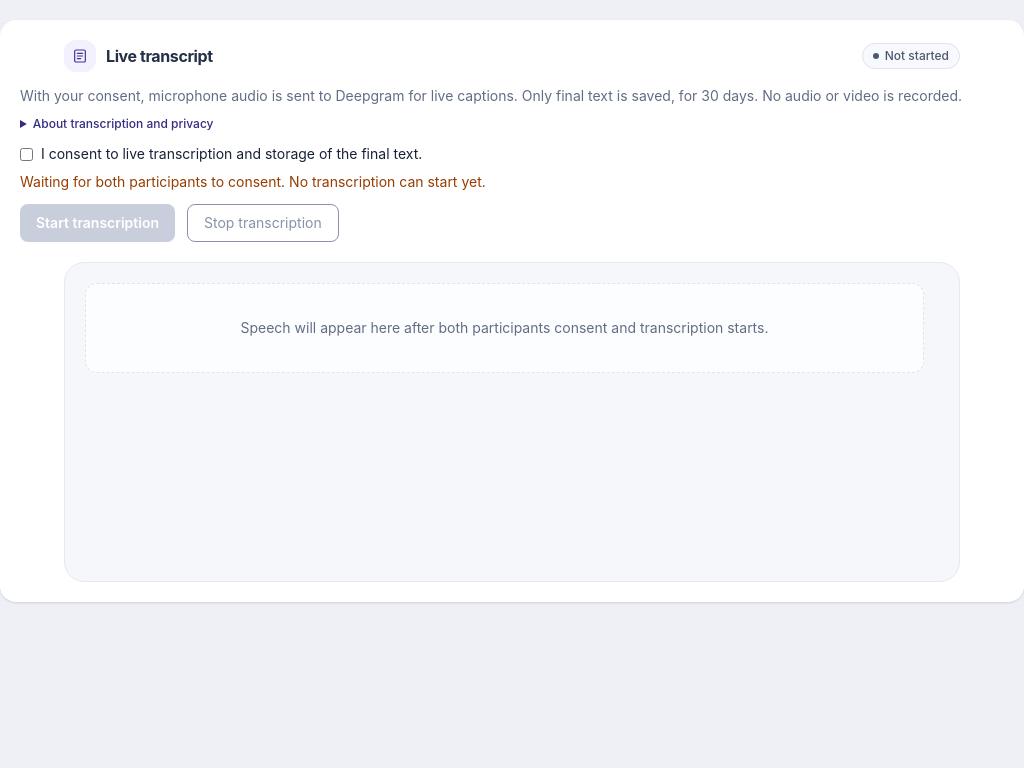
Test: transcription controls and captions › requires explicit consent before enabling start
Expected: the button "Start transcription" is disabled, [20,204,175,242]
Click the checkbox at (26, 154), box [20,148,33,161]
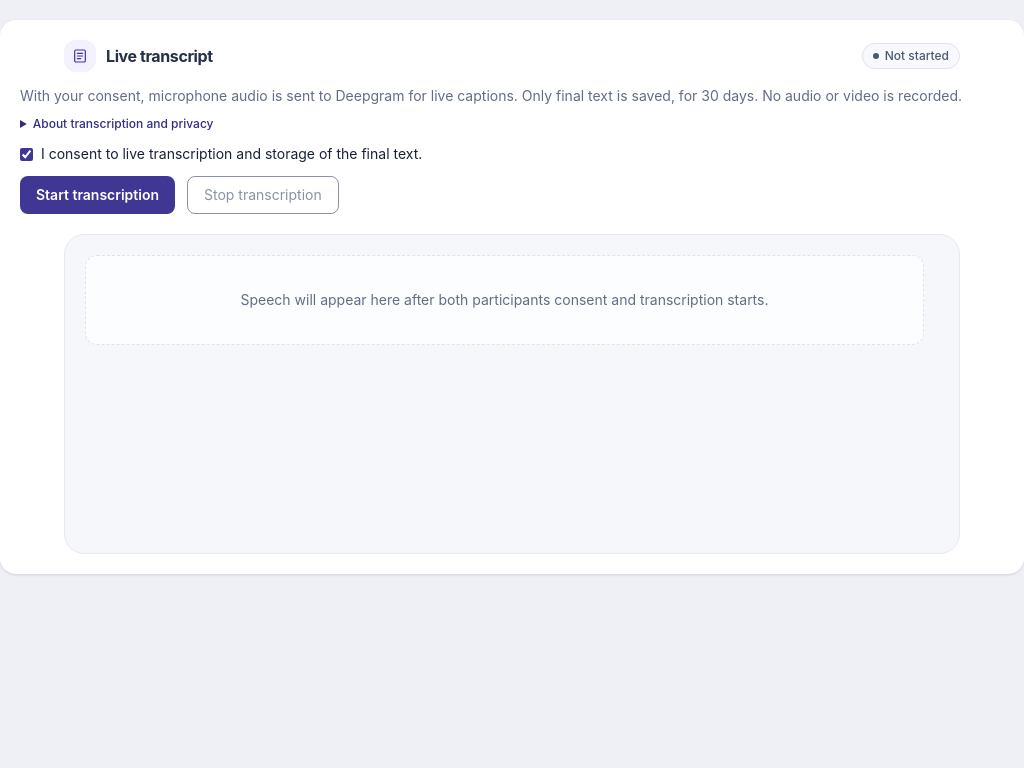
Expected: the button "Start transcription" is enabled
Click the button "Start transcription" at (98, 195), box [20,176,175,214]
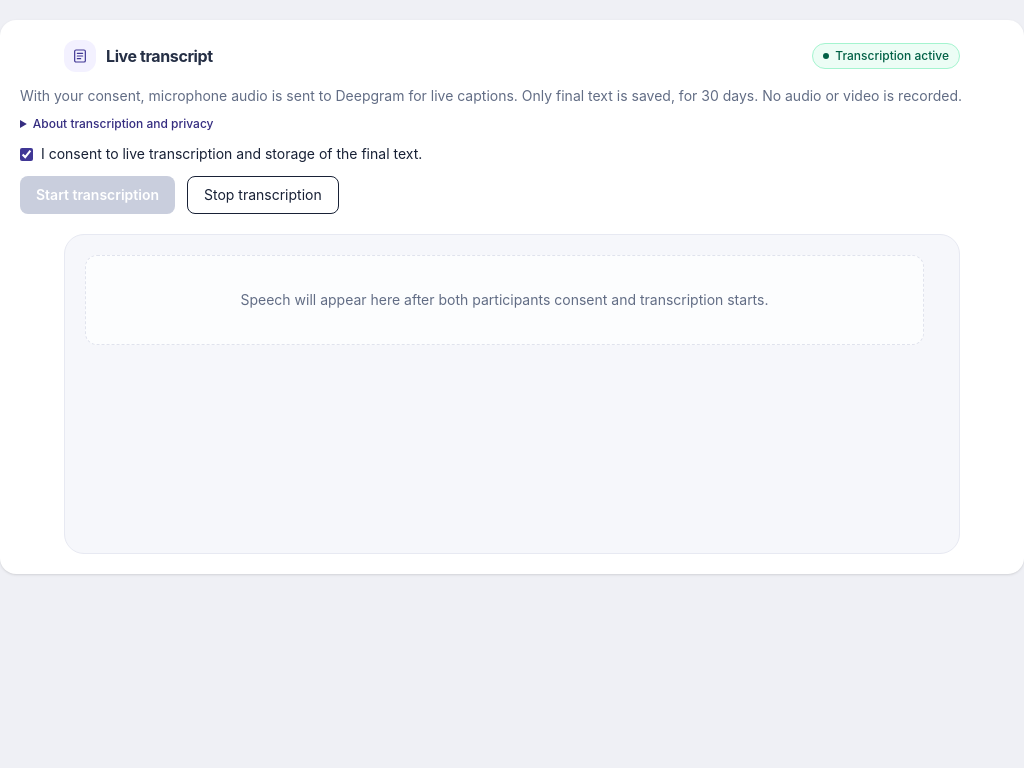
Expected: the text "Transcription active" is shown, [812,43,960,69]
Click the button "Stop transcription" at (263, 195), box [187,176,339,214]
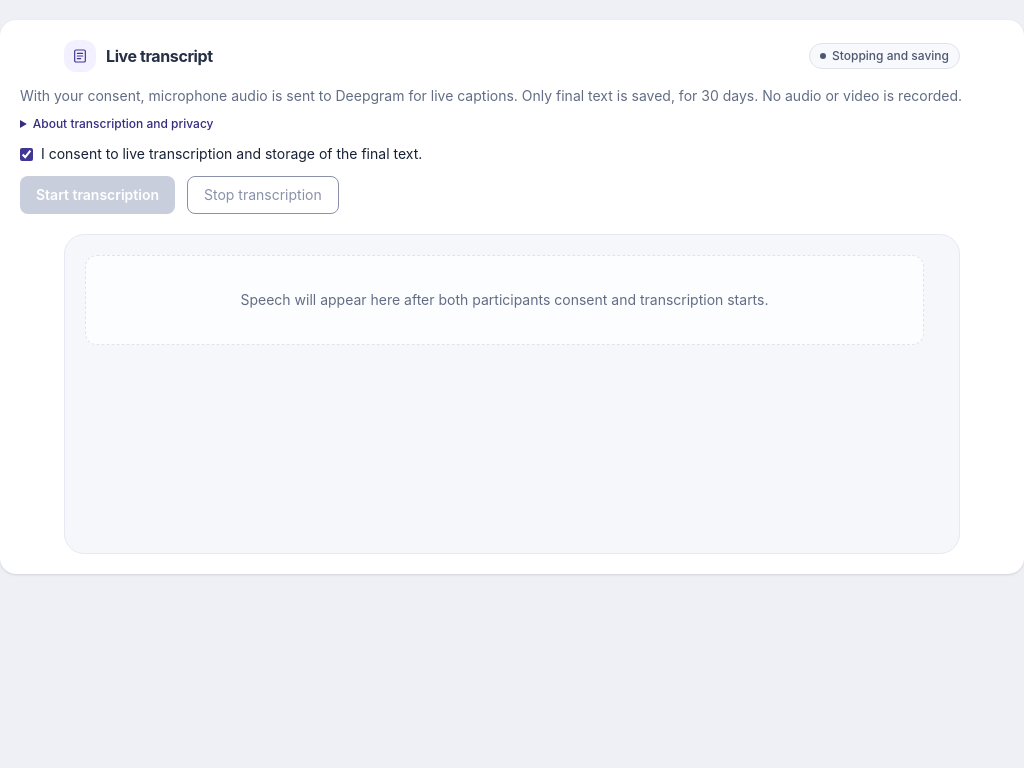
Expected: the text "Stopping and saving" is shown, [809,43,960,69]
